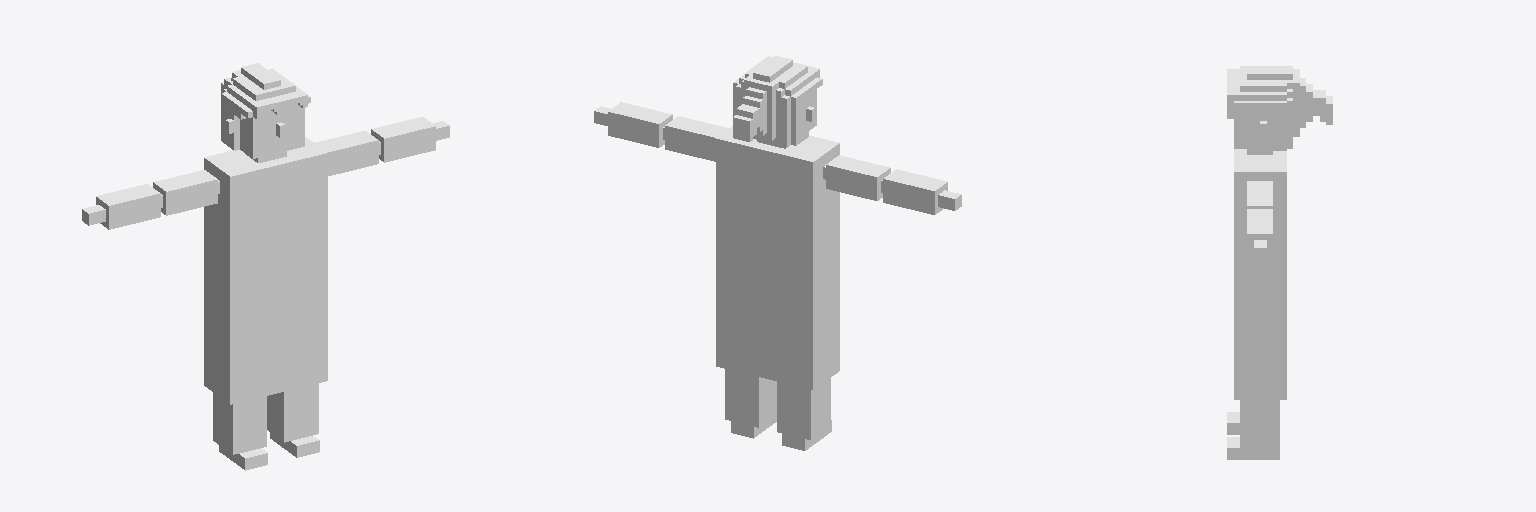
File: Farmer_Wife.obj
The picture shows the model from 3 angles: view 1: azimuth 30°, elevation 25°; view 2: azimuth 150°, elevation 25°; view 3: azimuth 270°, elevation 25°; orthographic projection.
Bounding box in the file's own units: 126 × 124 × 32.